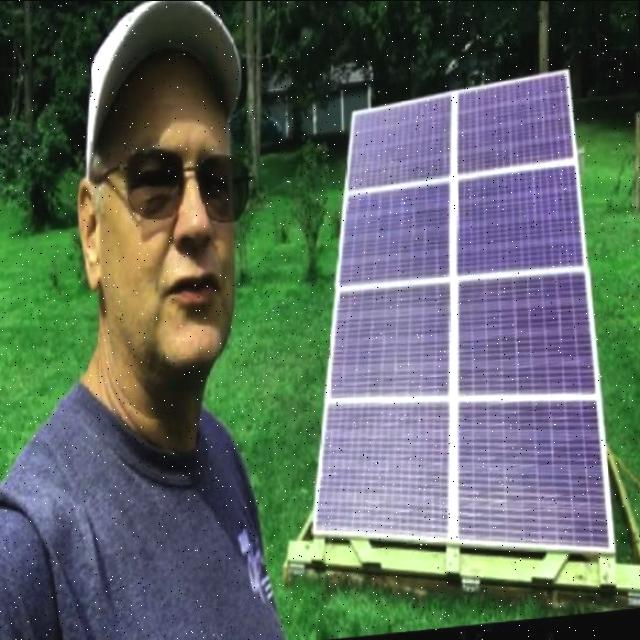Normal Solar Panel: (294, 97, 618, 587)
